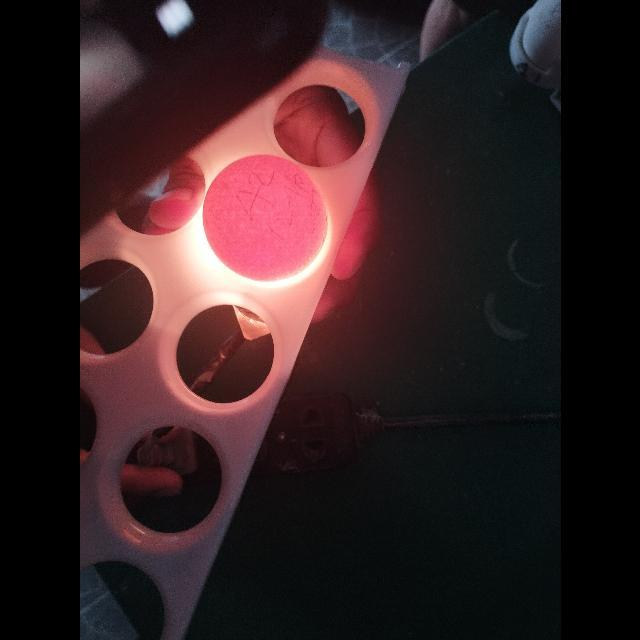Infertile: (204, 156, 324, 276)
